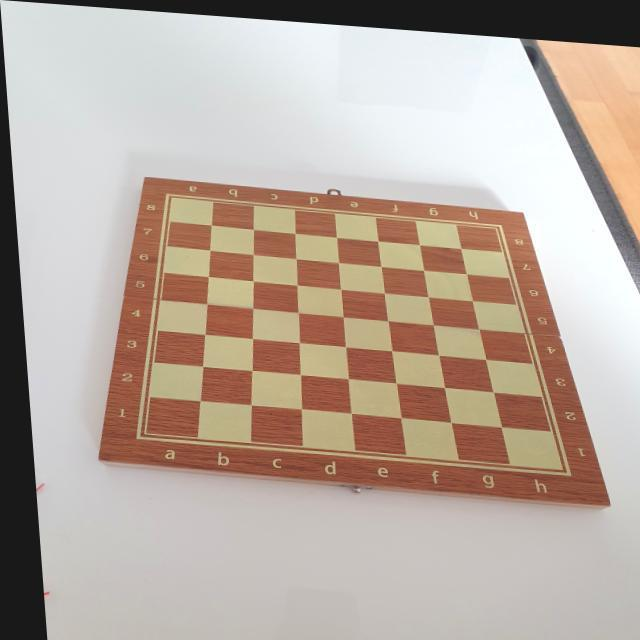chess-table-corners: (542, 452, 573, 472), (482, 210, 507, 228), (152, 186, 178, 202), (123, 427, 148, 442)
